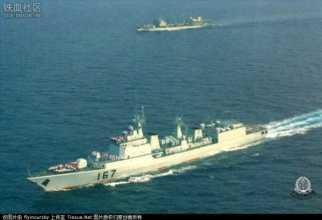otherboat: (135, 14, 208, 36)
warship: (26, 105, 273, 193)
